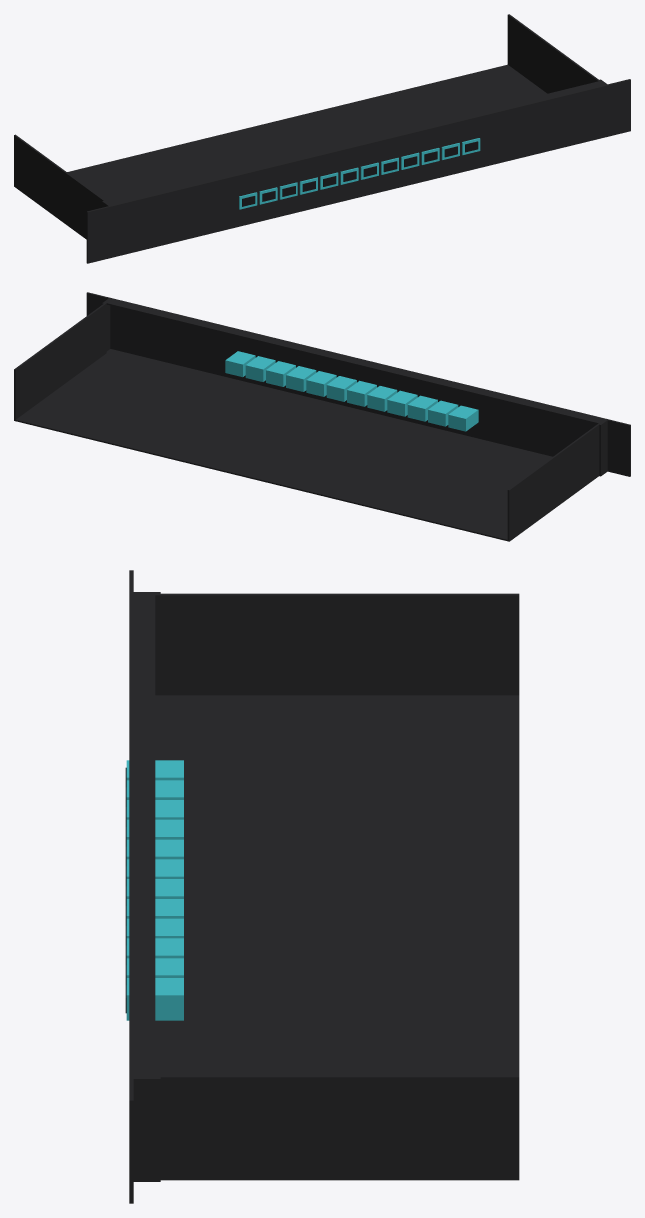
The model's file is FP-LC-12.far.glb.
3 renders of one model, top to bottom at view 1: azimuth 30°, elevation 25°; view 2: azimuth 150°, elevation 25°; view 3: azimuth 270°, elevation 25°, orthographic. The views are drawn at different scales.
Visible parts, largest first — view 1: FP-LC-12_Body_far; view 2: FP-LC-12_Body_far; view 3: FP-LC-12_Body_far.
Part boxes in pixels (x1=…): FP-LC-12_Body_far: x1=14, y1=14, x2=630, y2=263; FP-LC-12_Body_far: x1=14, y1=292, x2=630, y2=541; FP-LC-12_Body_far: x1=125, y1=570, x2=519, y2=1203.
Size of the model in its own units: 0.4826 by 0.0437 by 0.1515.
Materials: 1 (1 with a texture image).
